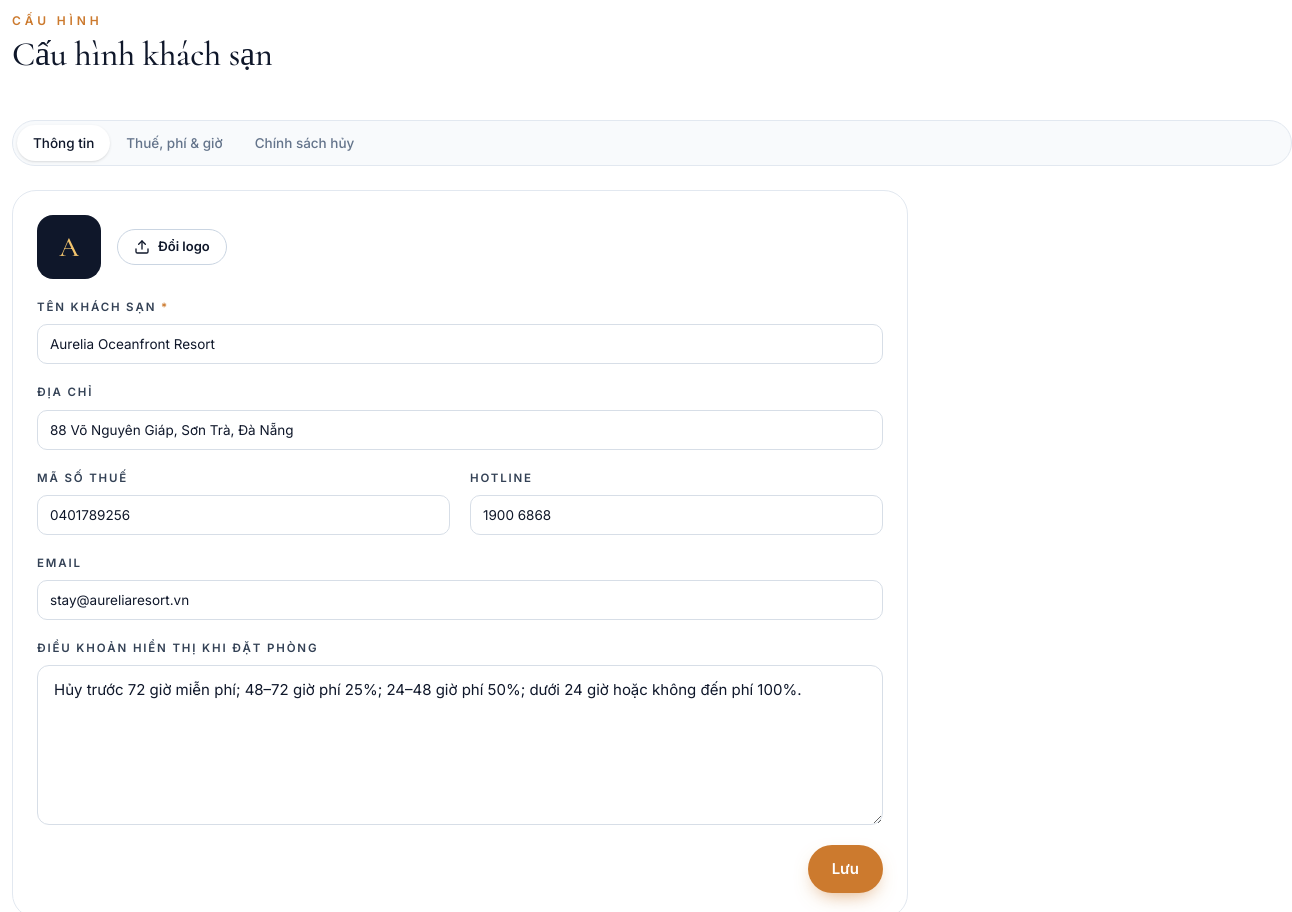
Quản trị › chính sách hủy: khung giờ hở bị báo lỗi và khóa nút lưu
The image size is (1292, 912).
Click the tab "Chính sách hủy". click: (304, 143)
box: [239,125,370,161]
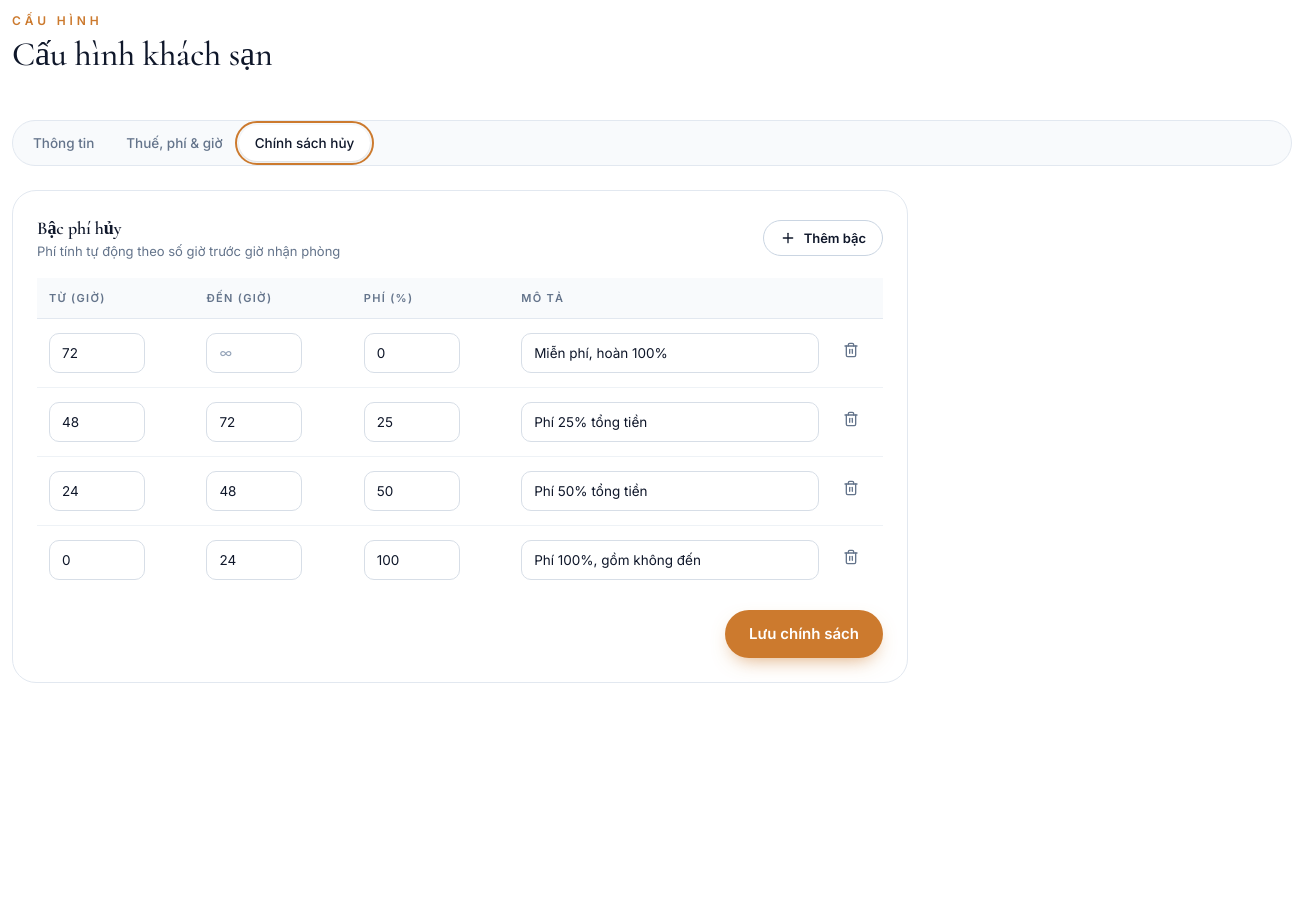
Click the 2nd button named "Xóa bậc". click: (850, 419)
box: [842,411,858,427]
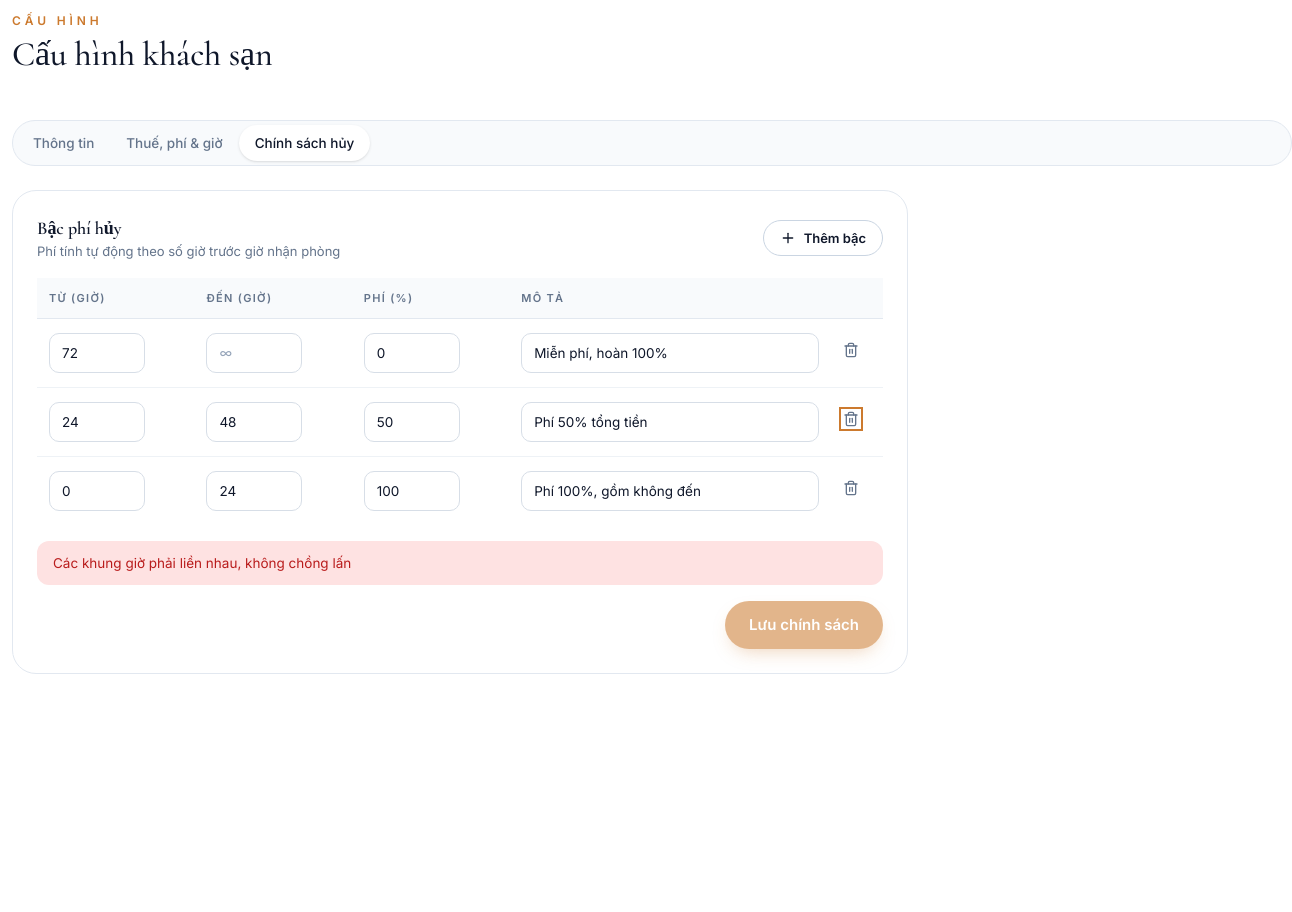
Check: the text "Các khung giờ phải liền nhau, không chồng lấn" is shown, box [37,541,883,585]
Check: the button "Lưu chính sách" is disabled, box [725,601,883,649]
